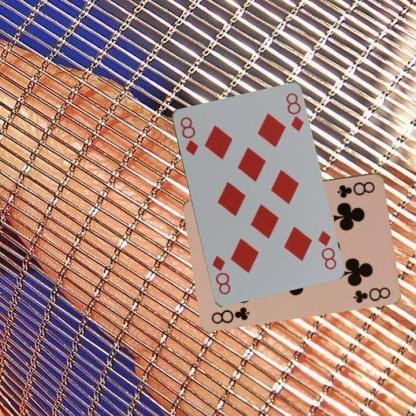8c: (334, 178, 376, 200), (208, 304, 250, 325)
8d: (314, 228, 338, 272), (176, 114, 200, 156)
